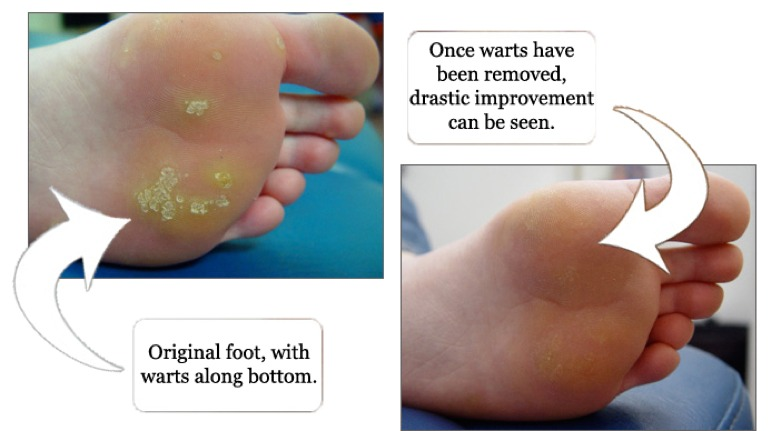Warts: (136, 36, 252, 227)
